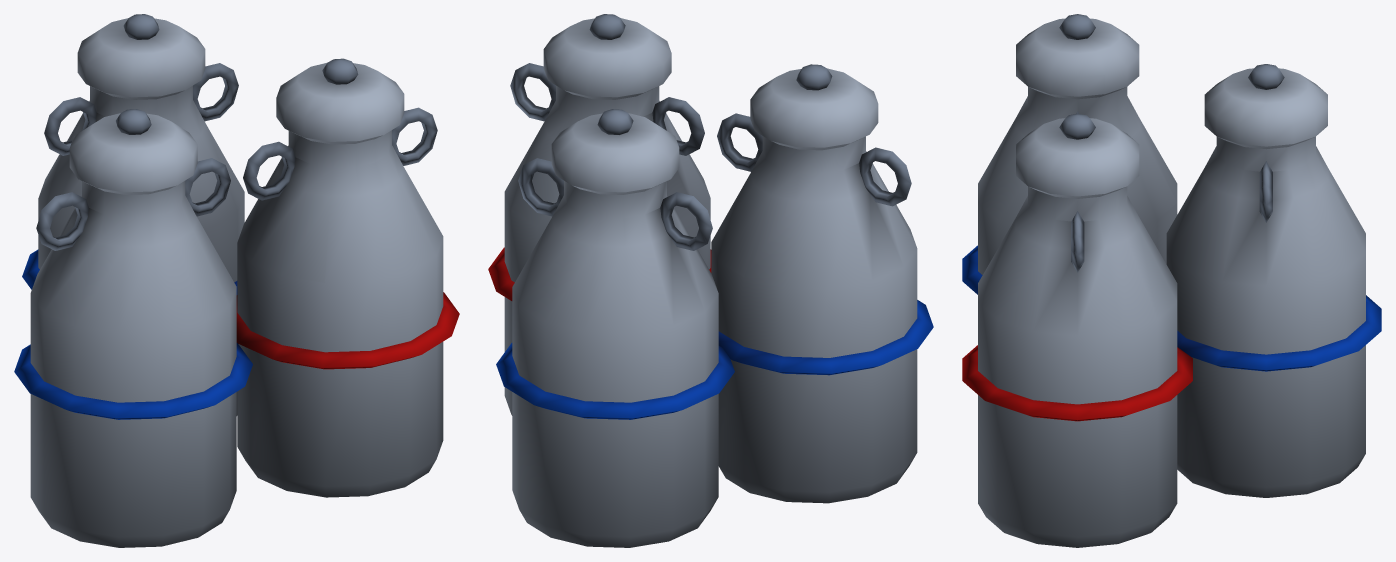
Rendered from Cargo_Milk.fbx.
The picture shows the model from 3 angles, left to right: view 1: azimuth 30°, elevation 25°; view 2: azimuth 150°, elevation 25°; view 3: azimuth 270°, elevation 25°; orthographic projection.
Parts seen in each view (by area): view 1: Cargo_Milk; view 2: Cargo_Milk; view 3: Cargo_Milk.
Boxes of the visible parts, box(x1,y1,x2,y2) form: Cargo_Milk: box(14, 14, 459, 547); Cargo_Milk: box(488, 14, 933, 547); Cargo_Milk: box(962, 14, 1381, 547).
Bounding box in the file's own units: 0.6013 × 0.551 × 0.5337.
